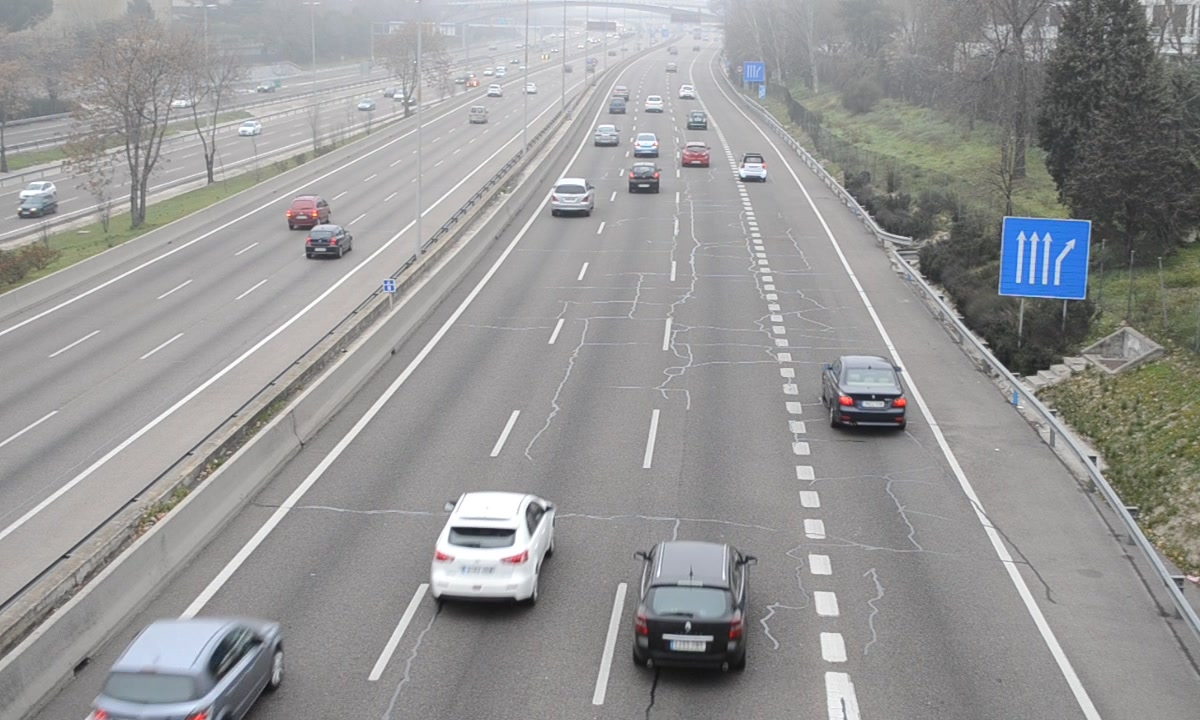car: (85, 619, 282, 720), (637, 539, 747, 676), (435, 491, 558, 608), (821, 354, 910, 434), (549, 178, 595, 218), (627, 162, 661, 195), (738, 152, 769, 183), (682, 142, 711, 169), (592, 124, 621, 149), (633, 132, 659, 158)
